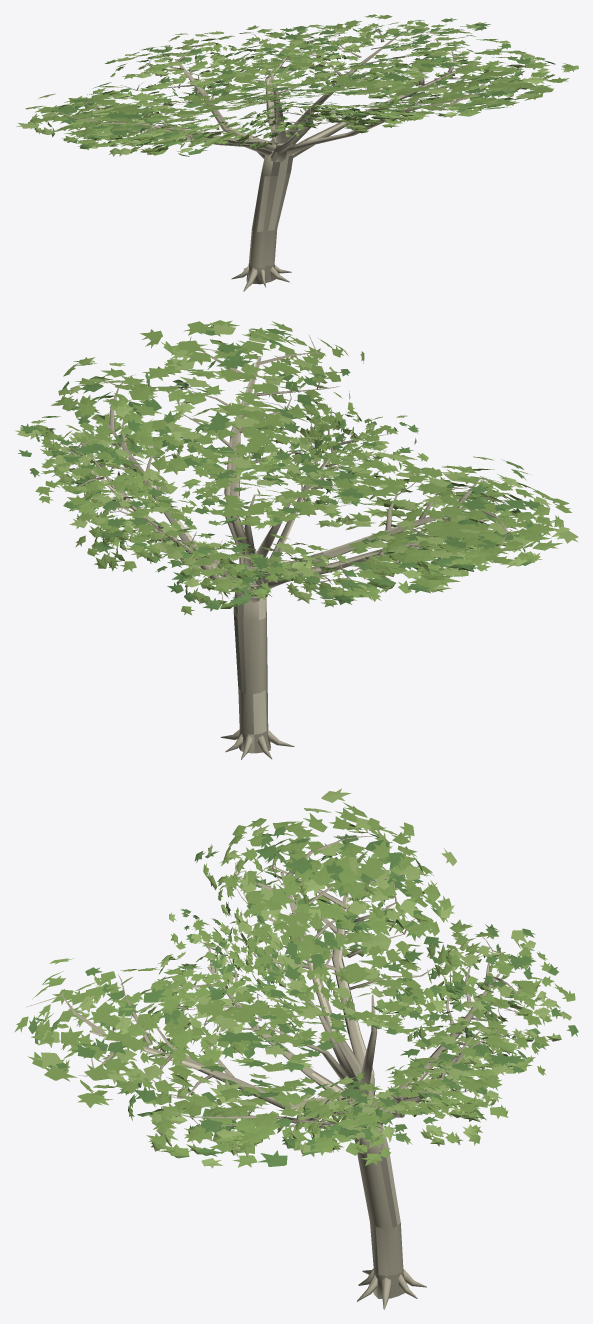
3 renders of one model, top to bottom at view 1: azimuth 30°, elevation 25°; view 2: azimuth 150°, elevation 25°; view 3: azimuth 270°, elevation 25°, orthographic. The views are drawn at different scales.
Parts seen in each view (by area): view 1: tree_plane_a_PlaneLeaf, tree_plane_a_PlaneLeafLight, tree_plane_a_PlaneBark, tree_plane_a_PlaneLeafDark, tree_plane_a_PlaneBarkPale, tree_plane_a_PlaneBarkBrown; view 2: tree_plane_a_PlaneLeaf, tree_plane_a_PlaneLeafDark, tree_plane_a_PlaneLeafLight, tree_plane_a_PlaneBark, tree_plane_a_PlaneBarkPale, tree_plane_a_PlaneBarkBrown; view 3: tree_plane_a_PlaneLeaf, tree_plane_a_PlaneLeafDark, tree_plane_a_PlaneLeafLight, tree_plane_a_PlaneBark, tree_plane_a_PlaneBarkPale, tree_plane_a_PlaneBarkBrown.
Part boxes in pixels (x1=…): tree_plane_a_PlaneLeaf: x1=25, y1=14, x2=578, y2=155; tree_plane_a_PlaneLeafLight: x1=16, y1=22, x2=548, y2=156; tree_plane_a_PlaneBark: x1=54, y1=26, x2=534, y2=291; tree_plane_a_PlaneLeafDark: x1=34, y1=18, x2=555, y2=156; tree_plane_a_PlaneBarkPale: x1=195, y1=53, x2=405, y2=264; tree_plane_a_PlaneBarkBrown: x1=185, y1=36, x2=468, y2=282; tree_plane_a_PlaneLeaf: x1=30, y1=320, x2=571, y2=615; tree_plane_a_PlaneLeafDark: x1=18, y1=325, x2=559, y2=611; tree_plane_a_PlaneLeafLight: x1=15, y1=322, x2=578, y2=603; tree_plane_a_PlaneBark: x1=61, y1=334, x2=512, y2=759; tree_plane_a_PlaneBarkPale: x1=91, y1=358, x2=417, y2=753; tree_plane_a_PlaneBarkBrown: x1=109, y1=425, x2=386, y2=753; tree_plane_a_PlaneLeaf: x1=14, y1=802, x2=575, y2=1167; tree_plane_a_PlaneLeafDark: x1=28, y1=826, x2=578, y2=1166; tree_plane_a_PlaneLeafLight: x1=34, y1=788, x2=571, y2=1168; tree_plane_a_PlaneBark: x1=26, y1=835, x2=527, y2=1309; tree_plane_a_PlaneBarkPale: x1=91, y1=893, x2=499, y2=1275; tree_plane_a_PlaneBarkBrown: x1=150, y1=958, x2=491, y2=1298.
Size of the model in its own units: 23.4 by 11.02 by 16.28.
